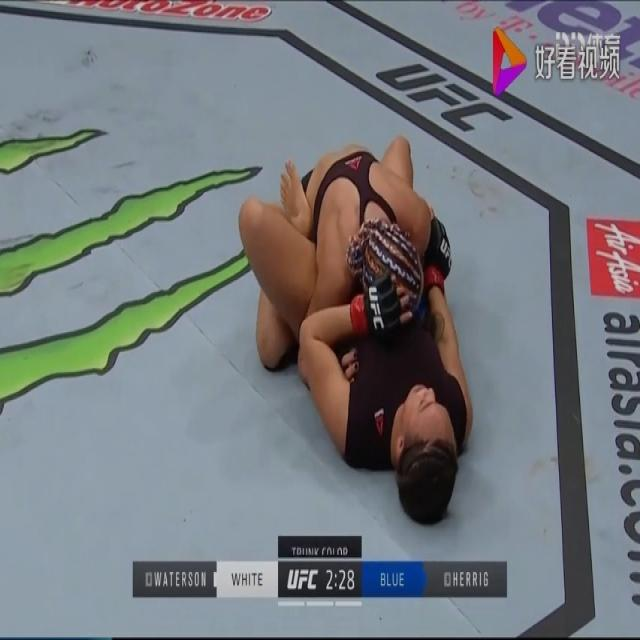fight: (238, 131, 481, 529)
